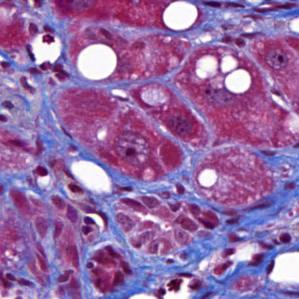inflammation: (76, 206, 113, 244), (150, 270, 195, 299), (30, 59, 74, 86), (253, 231, 294, 256)
